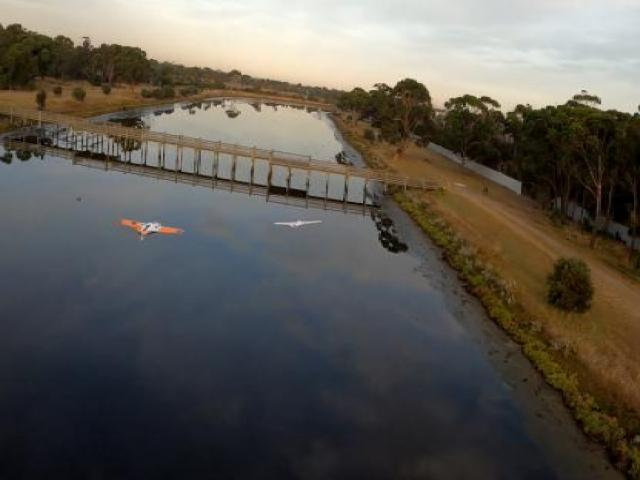uav: (114, 218, 180, 244), (268, 213, 324, 230)
